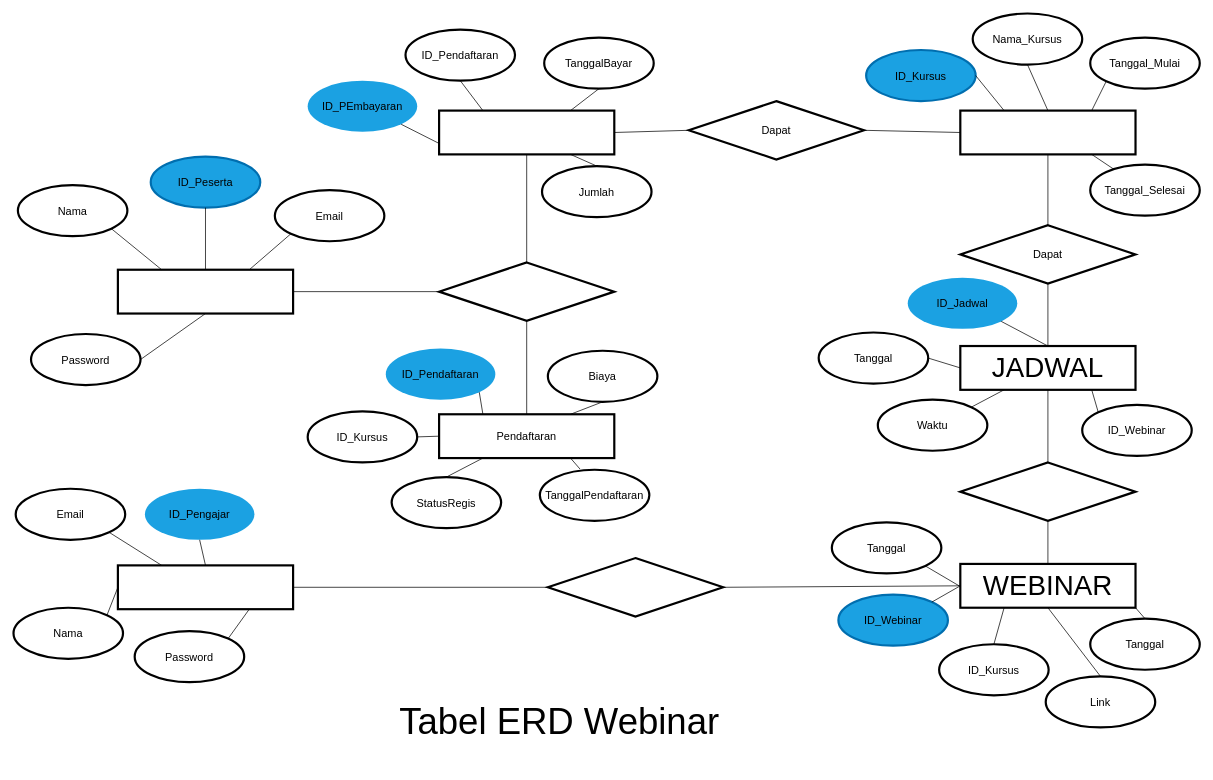
Image size: 1213x780. Some labels were removed from this diagram. The centre of each missing label's shape, as x and y in pixels:
"KURSUS" belongs at (1047,132).
"Melakukan" belongs at (526,291).
"Memiliki" belongs at (1047,491).
"Mengajar" belongs at (635,587).
"PEMBAYARAN" belongs at (526,132).
"PENGAJAR" belongs at (205,587).
"PESERTA" belongs at (205,291).
